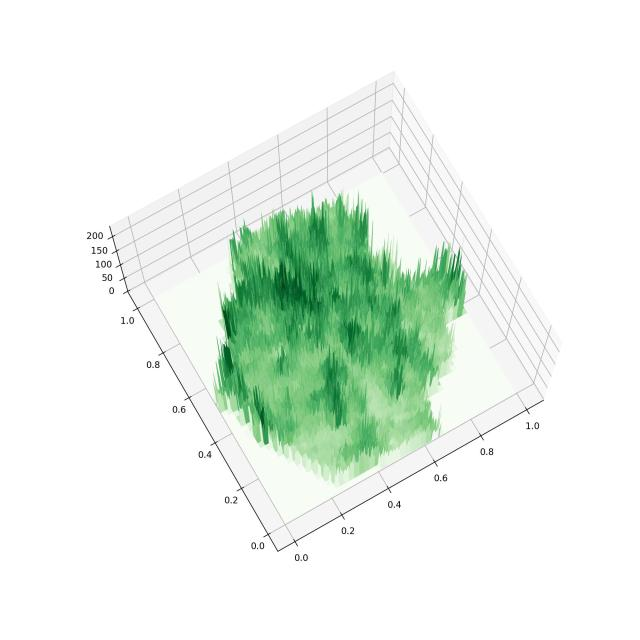fir: (51, 25, 582, 571)
